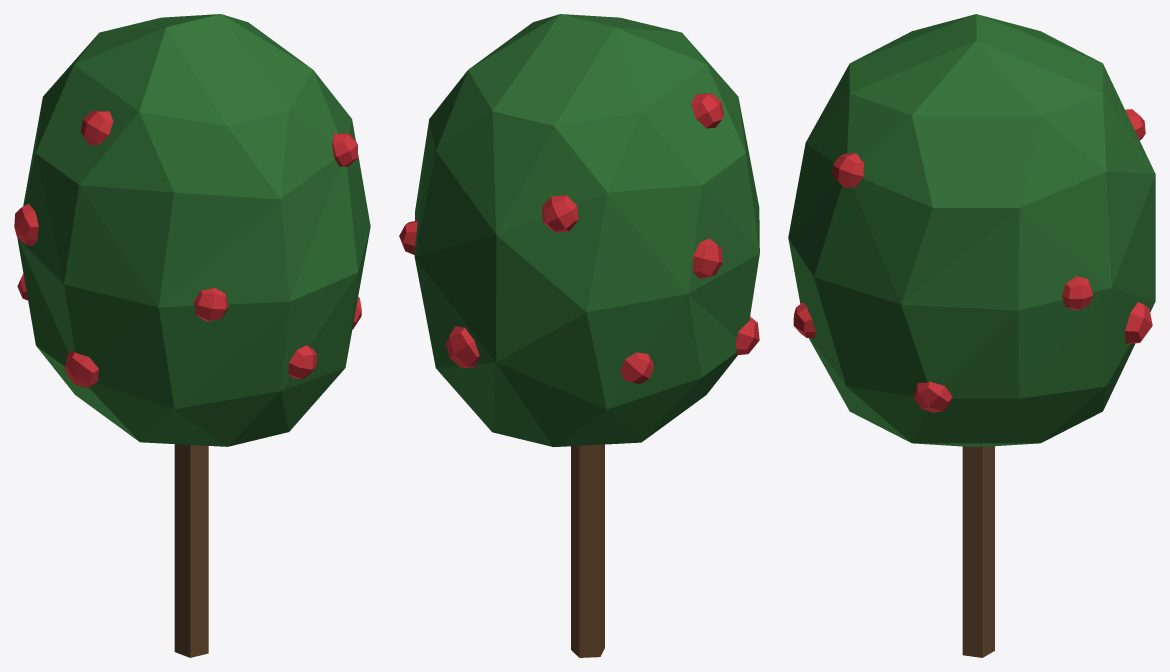
File: tree-round-apple.glb
3 renders of one model, left to right at view 1: azimuth 30°, elevation 25°; view 2: azimuth 150°, elevation 25°; view 3: azimuth 270°, elevation 25°, orthographic.
Visible parts, largest first — view 1: tree-round-apple; view 2: tree-round-apple; view 3: tree-round-apple.
Part boxes in pixels (<box>): tree-round-apple: <box>14,14,370,657</box>; tree-round-apple: <box>399,14,759,657</box>; tree-round-apple: <box>788,14,1155,657</box>.
Size of the model in its own units: 2.58 by 5.06 by 2.7.
